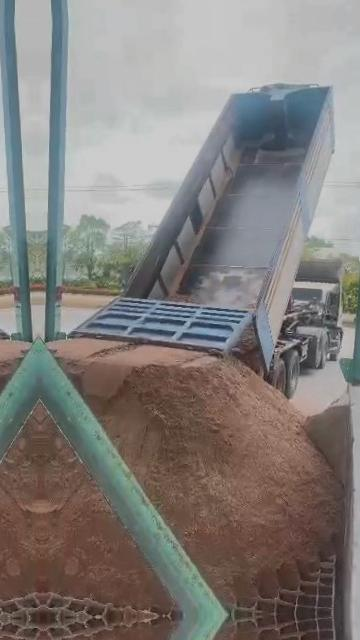sand: (50, 323, 340, 601), (39, 410, 168, 607), (304, 394, 352, 510)
